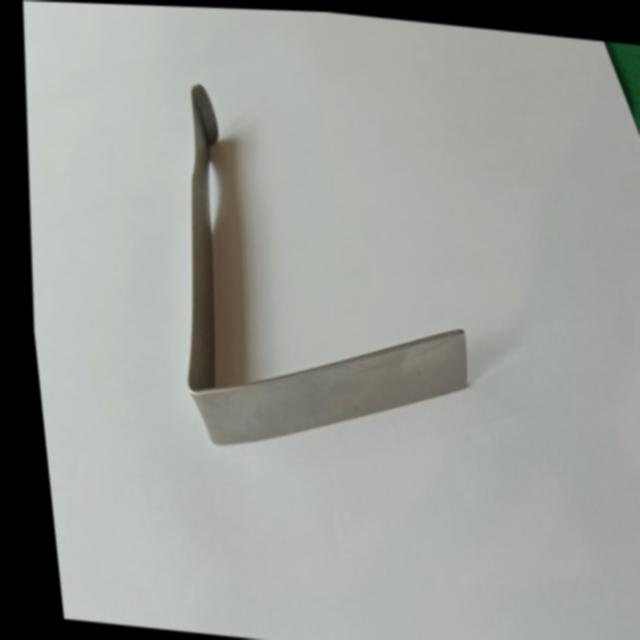AustinRetractor: (139, 69, 500, 481)
